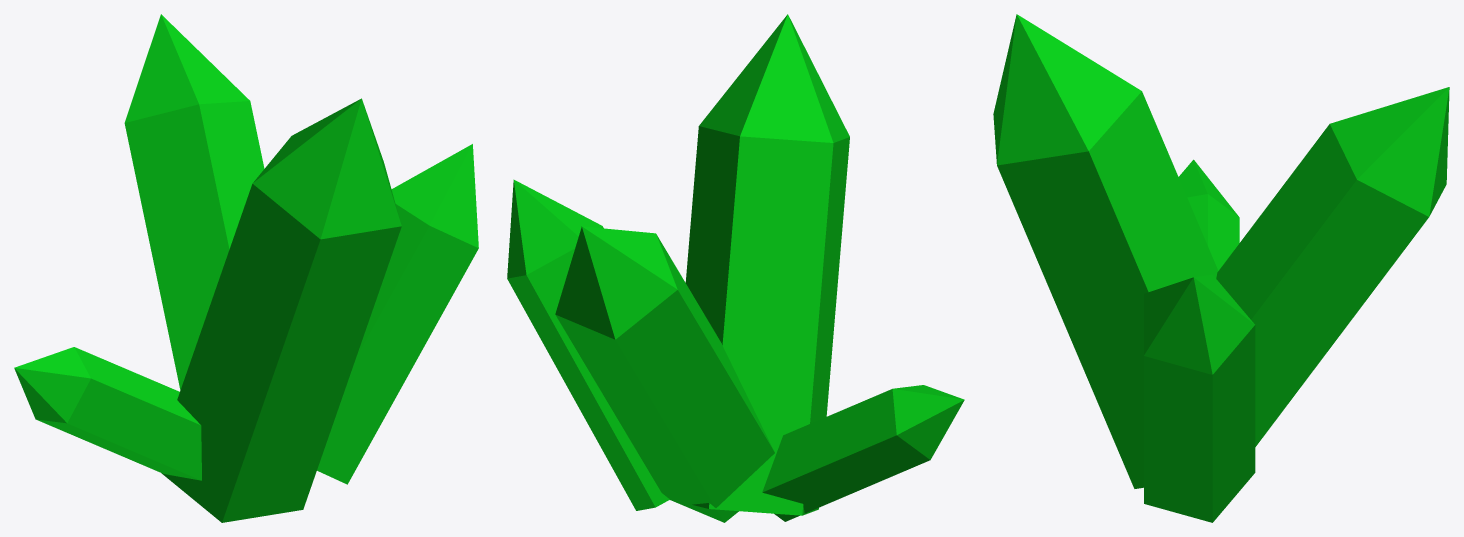
The model's file is crystall_g.fbx.
The picture shows the model from 3 angles, left to right: view 1: azimuth 30°, elevation 25°; view 2: azimuth 150°, elevation 25°; view 3: azimuth 270°, elevation 25°; orthographic projection. The views are drawn at different scales.
Parts seen in each view (by area): view 1: Cylinder.001; view 2: Cylinder.001; view 3: Cylinder.001.
Boxes of the visible parts, x1=… form: Cylinder.001: x1=14, y1=14, x2=478, y2=522; Cylinder.001: x1=507, y1=14, x2=964, y2=522; Cylinder.001: x1=993, y1=14, x2=1449, y2=522.
Bounding box in the file's own units: 335 × 316 × 273.
